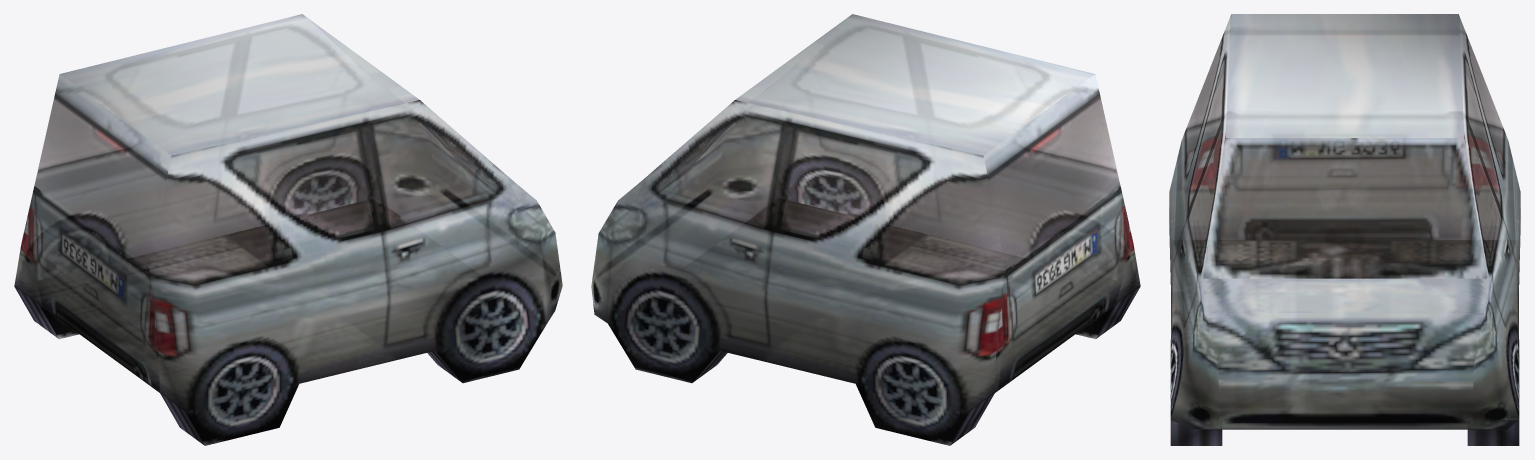
File: Shared - Ground Vehicles - Car Swatch Euro - CVSwatch01.glb
3 renders of one model, left to right at view 1: azimuth 30°, elevation 25°; view 2: azimuth 150°, elevation 25°; view 3: azimuth 270°, elevation 25°, orthographic.
Parts seen in each view (by area): view 1: CVSWATCH01; view 2: CVSWATCH01; view 3: CVSWATCH01.
Boxes of the visible parts, box(x1,y1,x2,y2) form: CVSWATCH01: box(14, 14, 562, 445); CVSWATCH01: box(591, 14, 1140, 445); CVSWATCH01: box(1169, 14, 1520, 445).
Size of the model in its own units: 13.81 by 8.65 by 10.05.
Materials: 1 (1 with a texture image).
